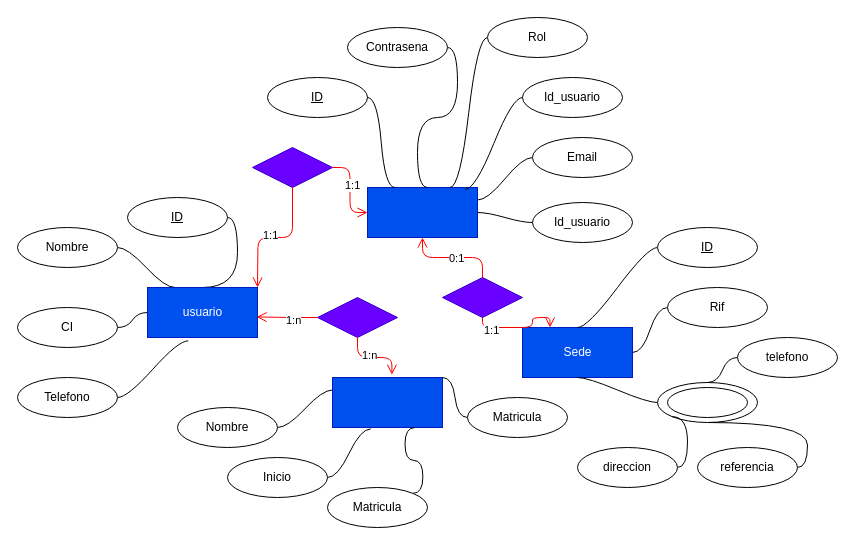
Some shapes in this 855 by 545 pixel diagram are drawn without their labels. Each missing label, with the box of its shape:
contacto: (666, 386, 748, 418)
Curso: (332, 376, 442, 428)
Perfil: (366, 186, 478, 238)
podria tener: (316, 296, 398, 338)
puede tener: (442, 276, 522, 318)
Tiene: (252, 146, 332, 188)
